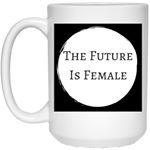cups: (1, 1, 150, 149)
